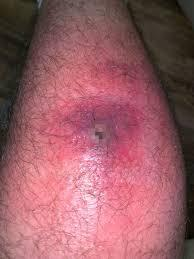Spider: (80, 99, 135, 161)
